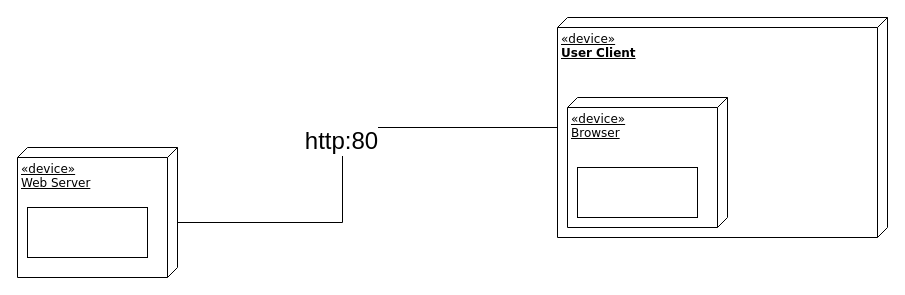
This 905x295 diagram has some shape labels left out. The shapes that lost their labels are listed below. From the top down, each one's centre as x and y in pixels, then its label:
(x=637, y=192): «artifact» HTML5
(x=87, y=232): «artifact» Web Application
